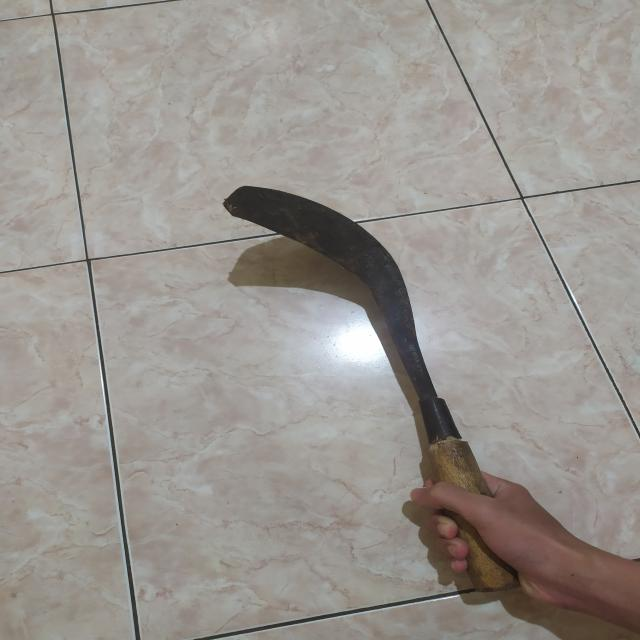Celurit: (223, 185, 526, 591)
